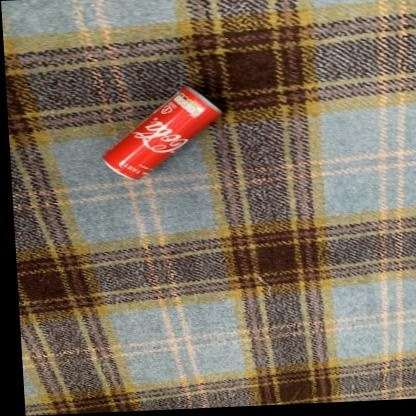trash: (103, 86, 220, 178)
